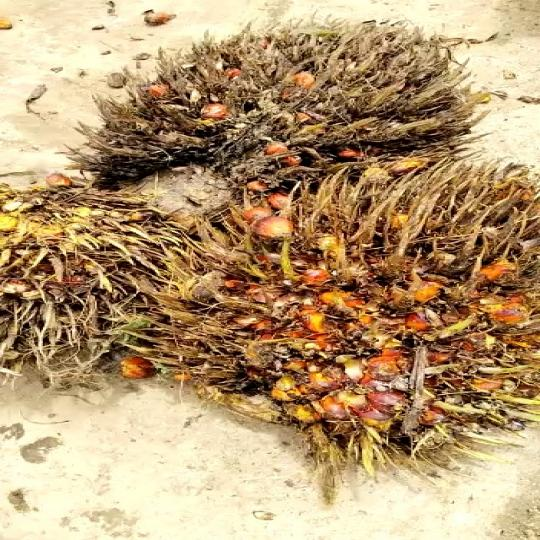terlalu masak: (150, 157, 540, 482), (46, 20, 501, 190)
